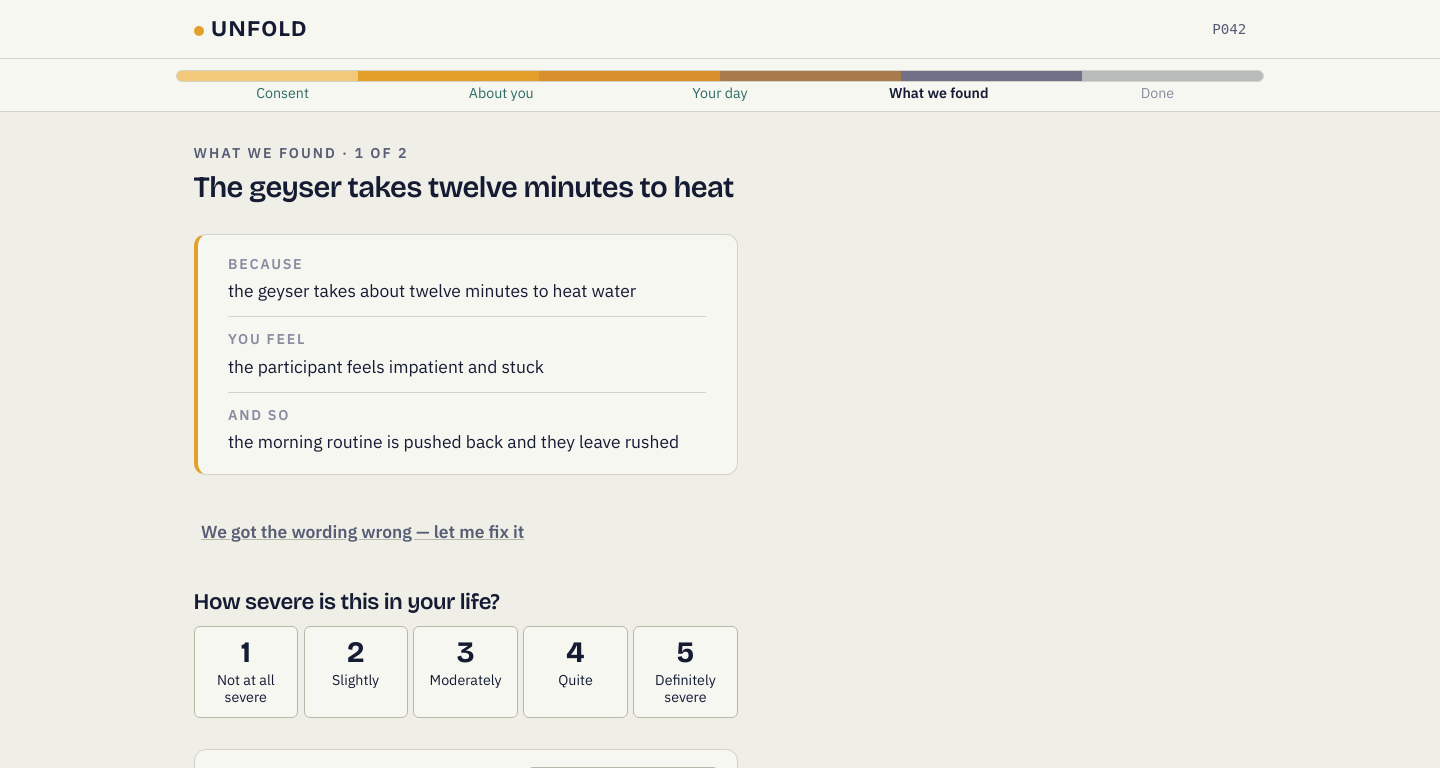
it: the participant can rewrite an issue in their own words
What coordinates should you click on to do the following:
click the button "We got the wording wrong — let me fix it"
I would click on:
 (363, 532)
Its box is [194,505,532,559].
(page scrolled)
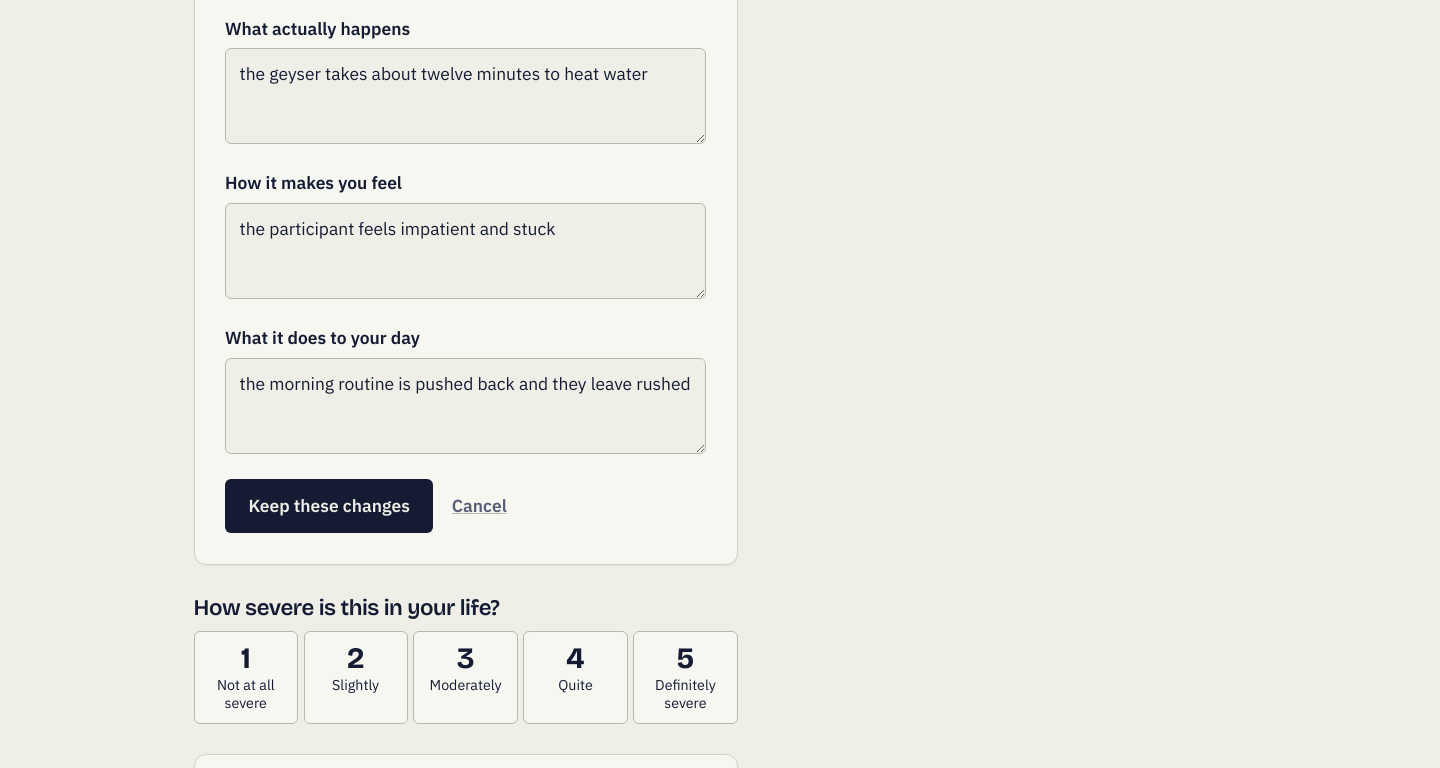
expect the text box labelled "What actually happens" is shown: met, box [225,48,706,144]
expect the text box labelled "How it makes you feel" is shown: met, box [225,203,706,299]
expect the text box labelled "What it does to your day" is shown: met, box [225,358,706,454]
